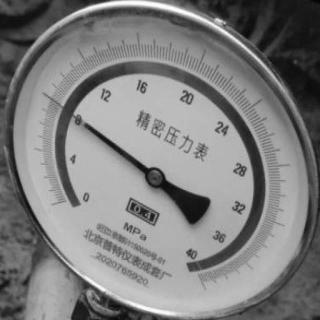gauge: (0, 0, 320, 320), (168, 240, 212, 289), (64, 187, 96, 224), (1, 288, 23, 320), (144, 165, 166, 187), (37, 89, 54, 101)
